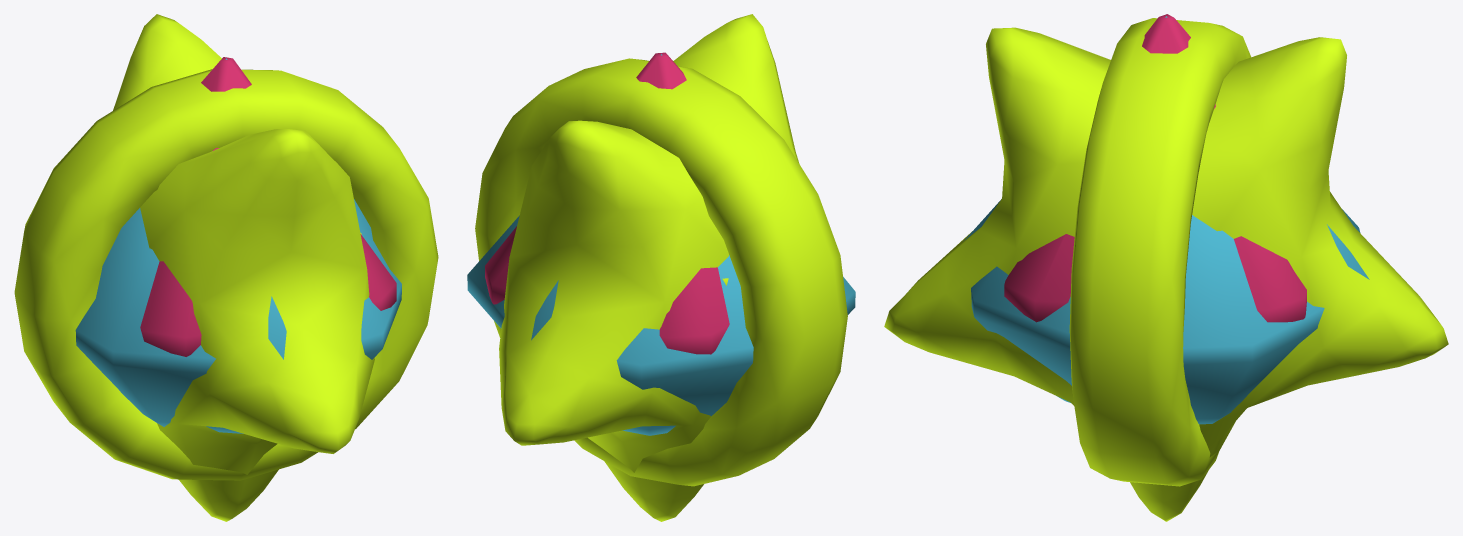
Rendered from candies.glb.
The picture shows the model from 3 angles, left to right: view 1: azimuth 30°, elevation 25°; view 2: azimuth 150°, elevation 25°; view 3: azimuth 270°, elevation 25°; orthographic projection. The views are drawn at different scales.
Parts seen in each view (by area): view 1: Star001_0, Coin003_0, Gem_Green_0, Gem_Pink_0; view 2: Star001_0, Coin003_0, Gem_Green_0, Gem_Pink_0; view 3: Star001_0, Coin003_0, Gem_Green_0, Gem_Pink_0.
Boxes of the visible parts, left/top/right/bottom form: Star001_0: left=113, top=14, right=374, bottom=521; Coin003_0: left=14, top=69, right=438, bottom=480; Gem_Green_0: left=75, top=58, right=401, bottom=433; Gem_Pink_0: left=140, top=57, right=396, bottom=356; Star001_0: left=499, top=14, right=799, bottom=521; Coin003_0: left=475, top=58, right=847, bottom=486; Gem_Green_0: left=467, top=54, right=855, bottom=435; Gem_Pink_0: left=485, top=52, right=729, bottom=354; Star001_0: left=884, top=27, right=1448, bottom=521; Coin003_0: left=1069, top=18, right=1250, bottom=486; Gem_Green_0: left=963, top=16, right=1369, bottom=424; Gem_Pink_0: left=1004, top=14, right=1306, bottom=322.
Bounding box in the file's own units: 0.502 × 0.596 × 0.6026.
